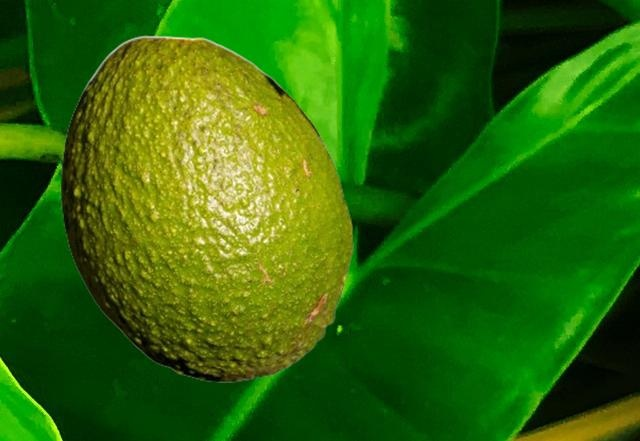avocado: (60, 35, 352, 381)
